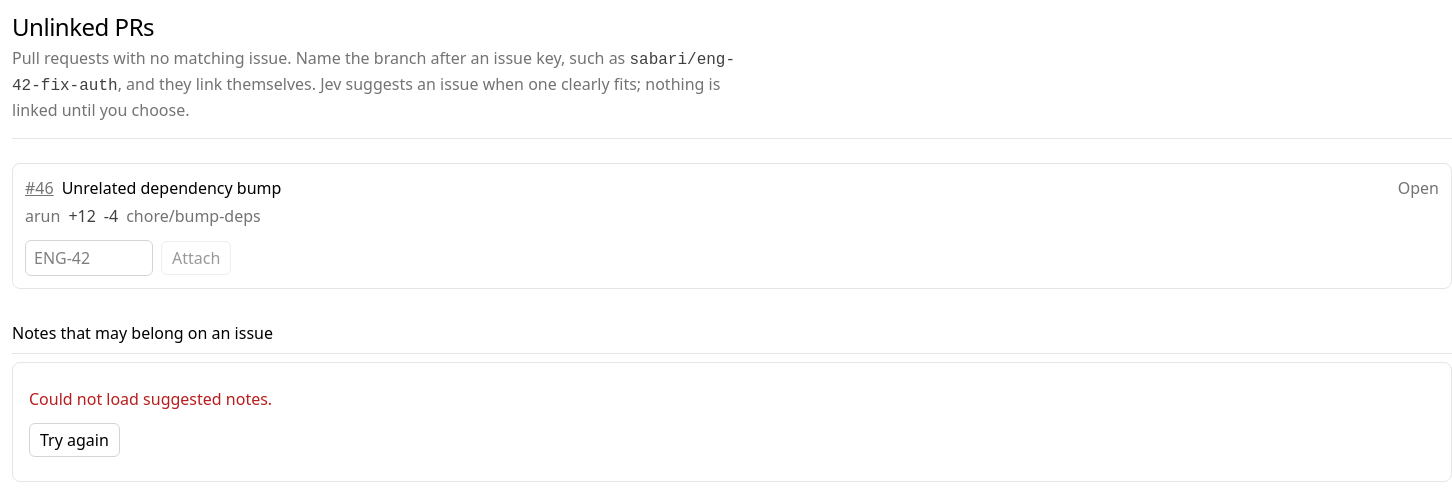
UnlinkedPRs › reports a bad issue key instead of failing silently
Check: the text "Unrelated dependency bump" is shown, box [62, 177, 281, 199]
Type "ENG-999" into the field named "issue key" at (89, 258), box [25, 240, 153, 276]
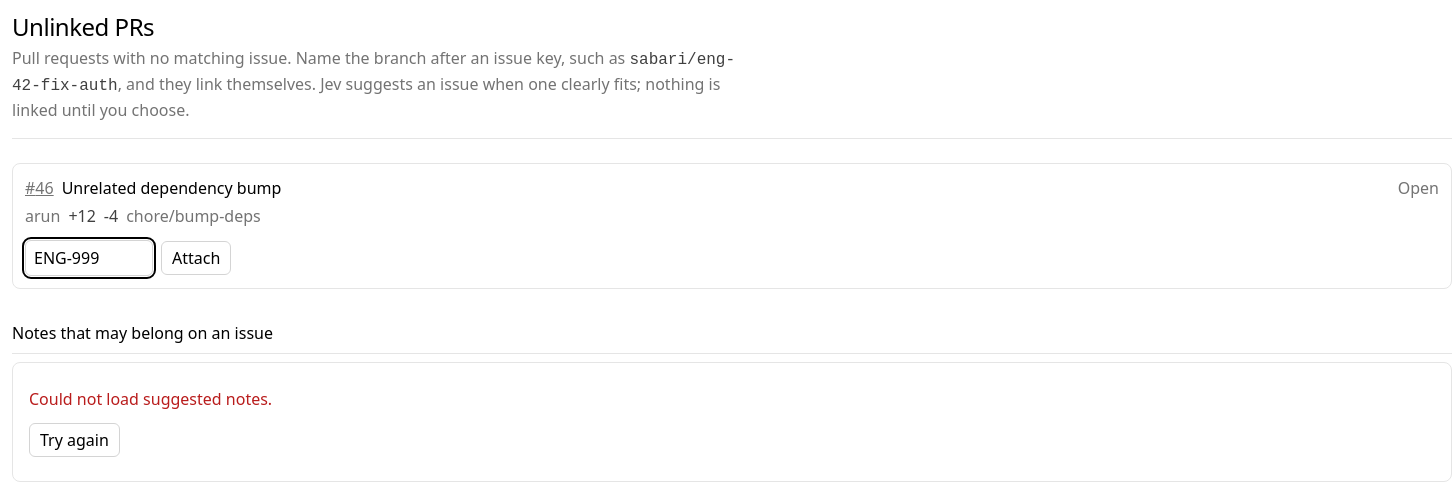
Click the button "Attach" at (196, 258), box [161, 241, 231, 275]
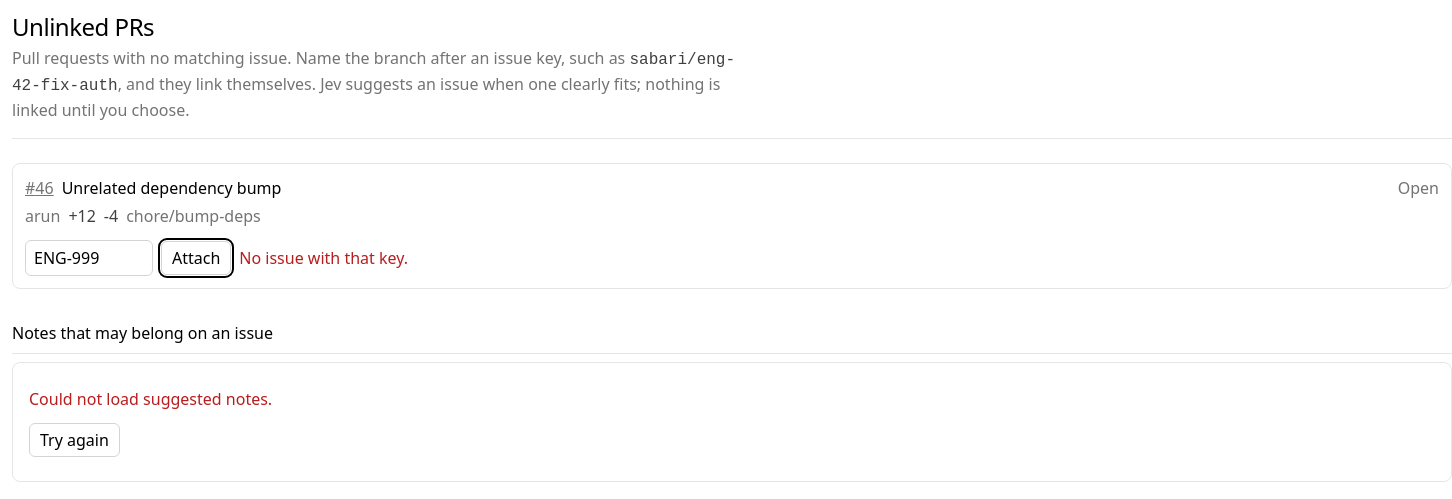
Check: the text "No issue with that key." is shown, box [239, 246, 408, 270]
